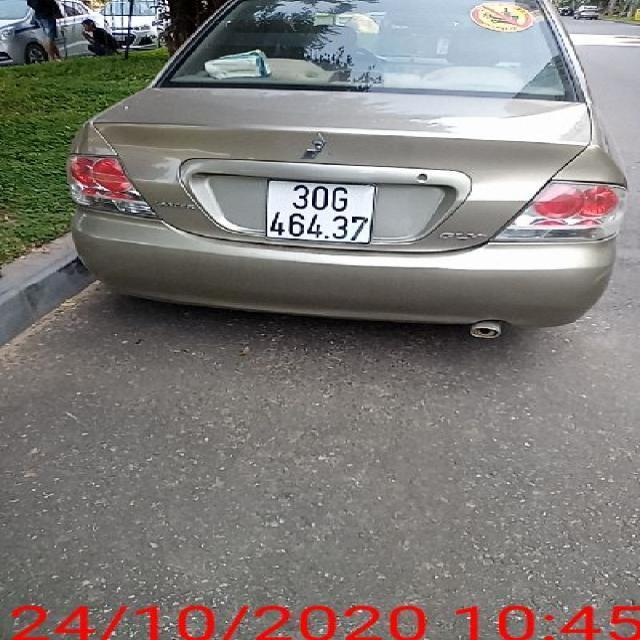bien_so_oto: (264, 177, 378, 246)
